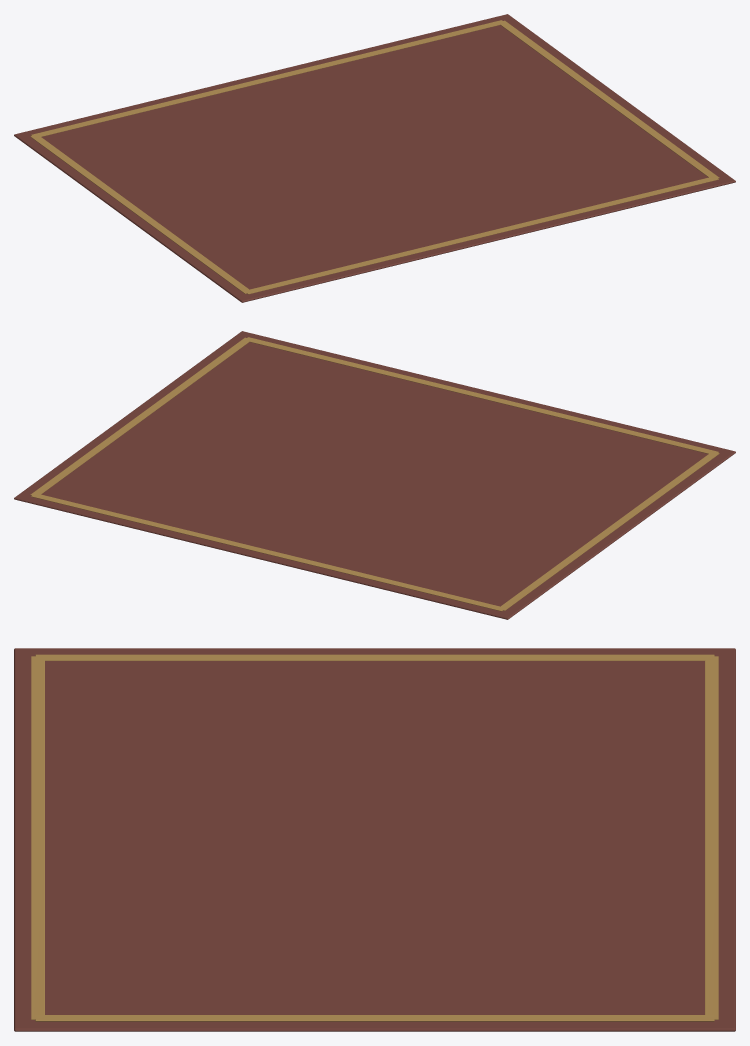
The model's file is floor-decor.glb.
The picture shows the model from 3 angles, top to bottom: view 1: azimuth 30°, elevation 25°; view 2: azimuth 150°, elevation 25°; view 3: azimuth 270°, elevation 25°; orthographic projection. The views are drawn at different scales.
Parts seen in each view (by area): view 1: victorian-study floor-decor; view 2: victorian-study floor-decor; view 3: victorian-study floor-decor.
Boxes of the visible parts, box(x1,y1,x2,y2) form: victorian-study floor-decor: box(14, 14, 735, 302); victorian-study floor-decor: box(14, 331, 735, 619); victorian-study floor-decor: box(14, 648, 735, 1031).
Size of the model in its own units: 5.25 by 0.0245 by 4.2.
